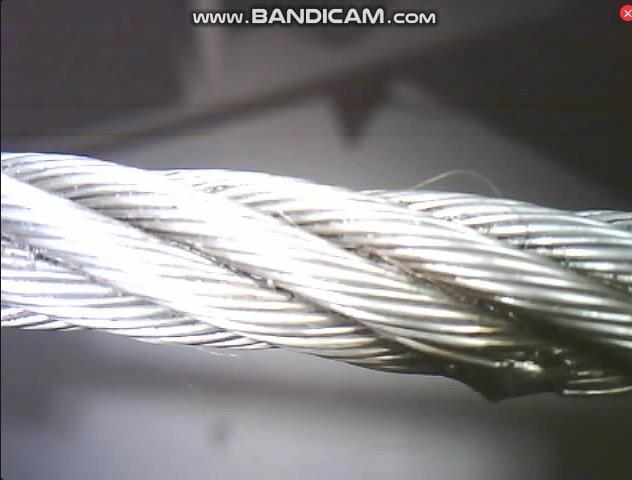thunderbolt: (443, 319, 580, 406)
